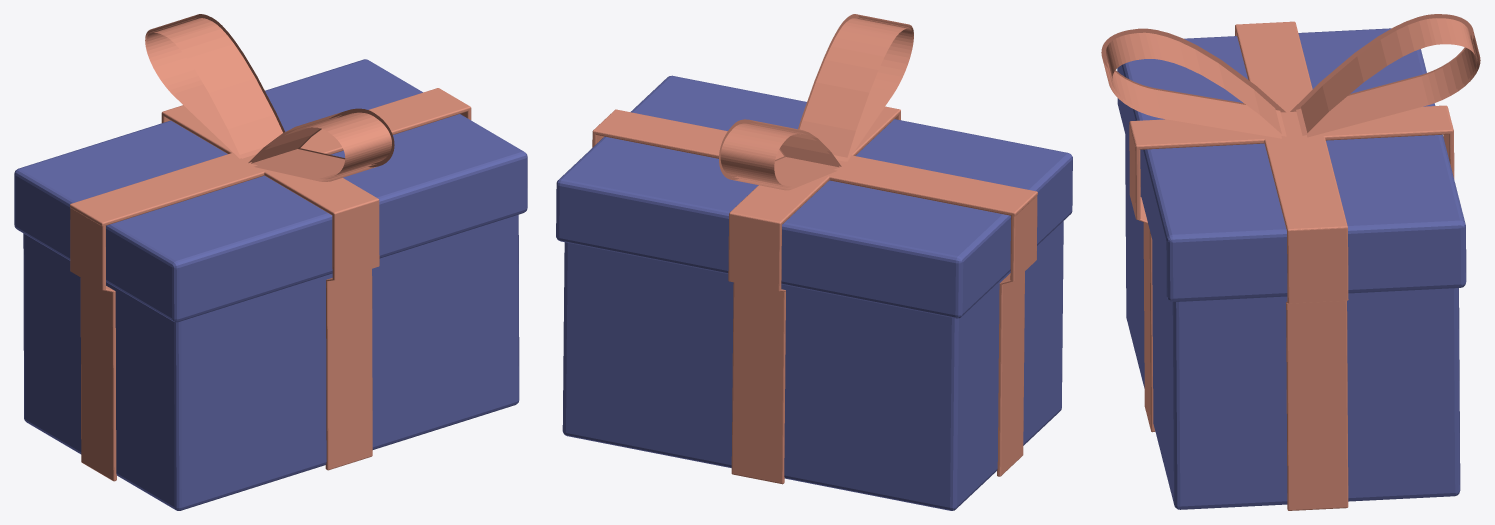
The model's file is gift_3.glb.
3 views of the same model, side by side, from view 1: azimuth 30°, elevation 25°; view 2: azimuth 150°, elevation 25°; view 3: azimuth 270°, elevation 25° (orthographic). The views are drawn at different scales.
Visible parts, largest first — view 1: Doos, Deksel, Side (×2), Extrude.3, Up (×2); view 2: Doos, Deksel, Side (×2), Extrude.3, Up (×2); view 3: Doos, Deksel, Extrude.3, Side (×2), Up (×2).
Boxes of the visible parts, <box> form: Doos: <box>23,214,519,510</box>; Deksel: <box>14,59,527,322</box>; Side (×2): <box>70,105,471,481</box>; Extrude.3: <box>145,14,394,181</box>; Up (×2): <box>70,88,470,226</box>; Doos: <box>562,221,1063,510</box>; Deksel: <box>556,75,1072,318</box>; Side (×2): <box>592,112,1037,484</box>; Extrude.3: <box>719,14,913,190</box>; Up (×2): <box>593,106,1037,224</box>; Doos: <box>1125,135,1460,509</box>; Deksel: <box>1117,28,1466,301</box>; Extrude.3: <box>1101,14,1480,138</box>; Side (×2): <box>1129,28,1454,510</box>; Up (×2): <box>1130,21,1452,231</box>.
Size of the model in its own units: 1.75 by 1.45 by 1.31.
